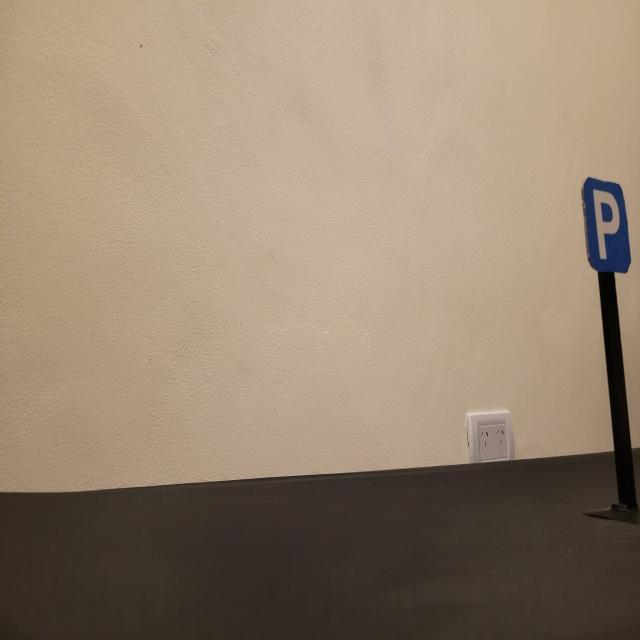parking: (580, 177, 631, 273)
